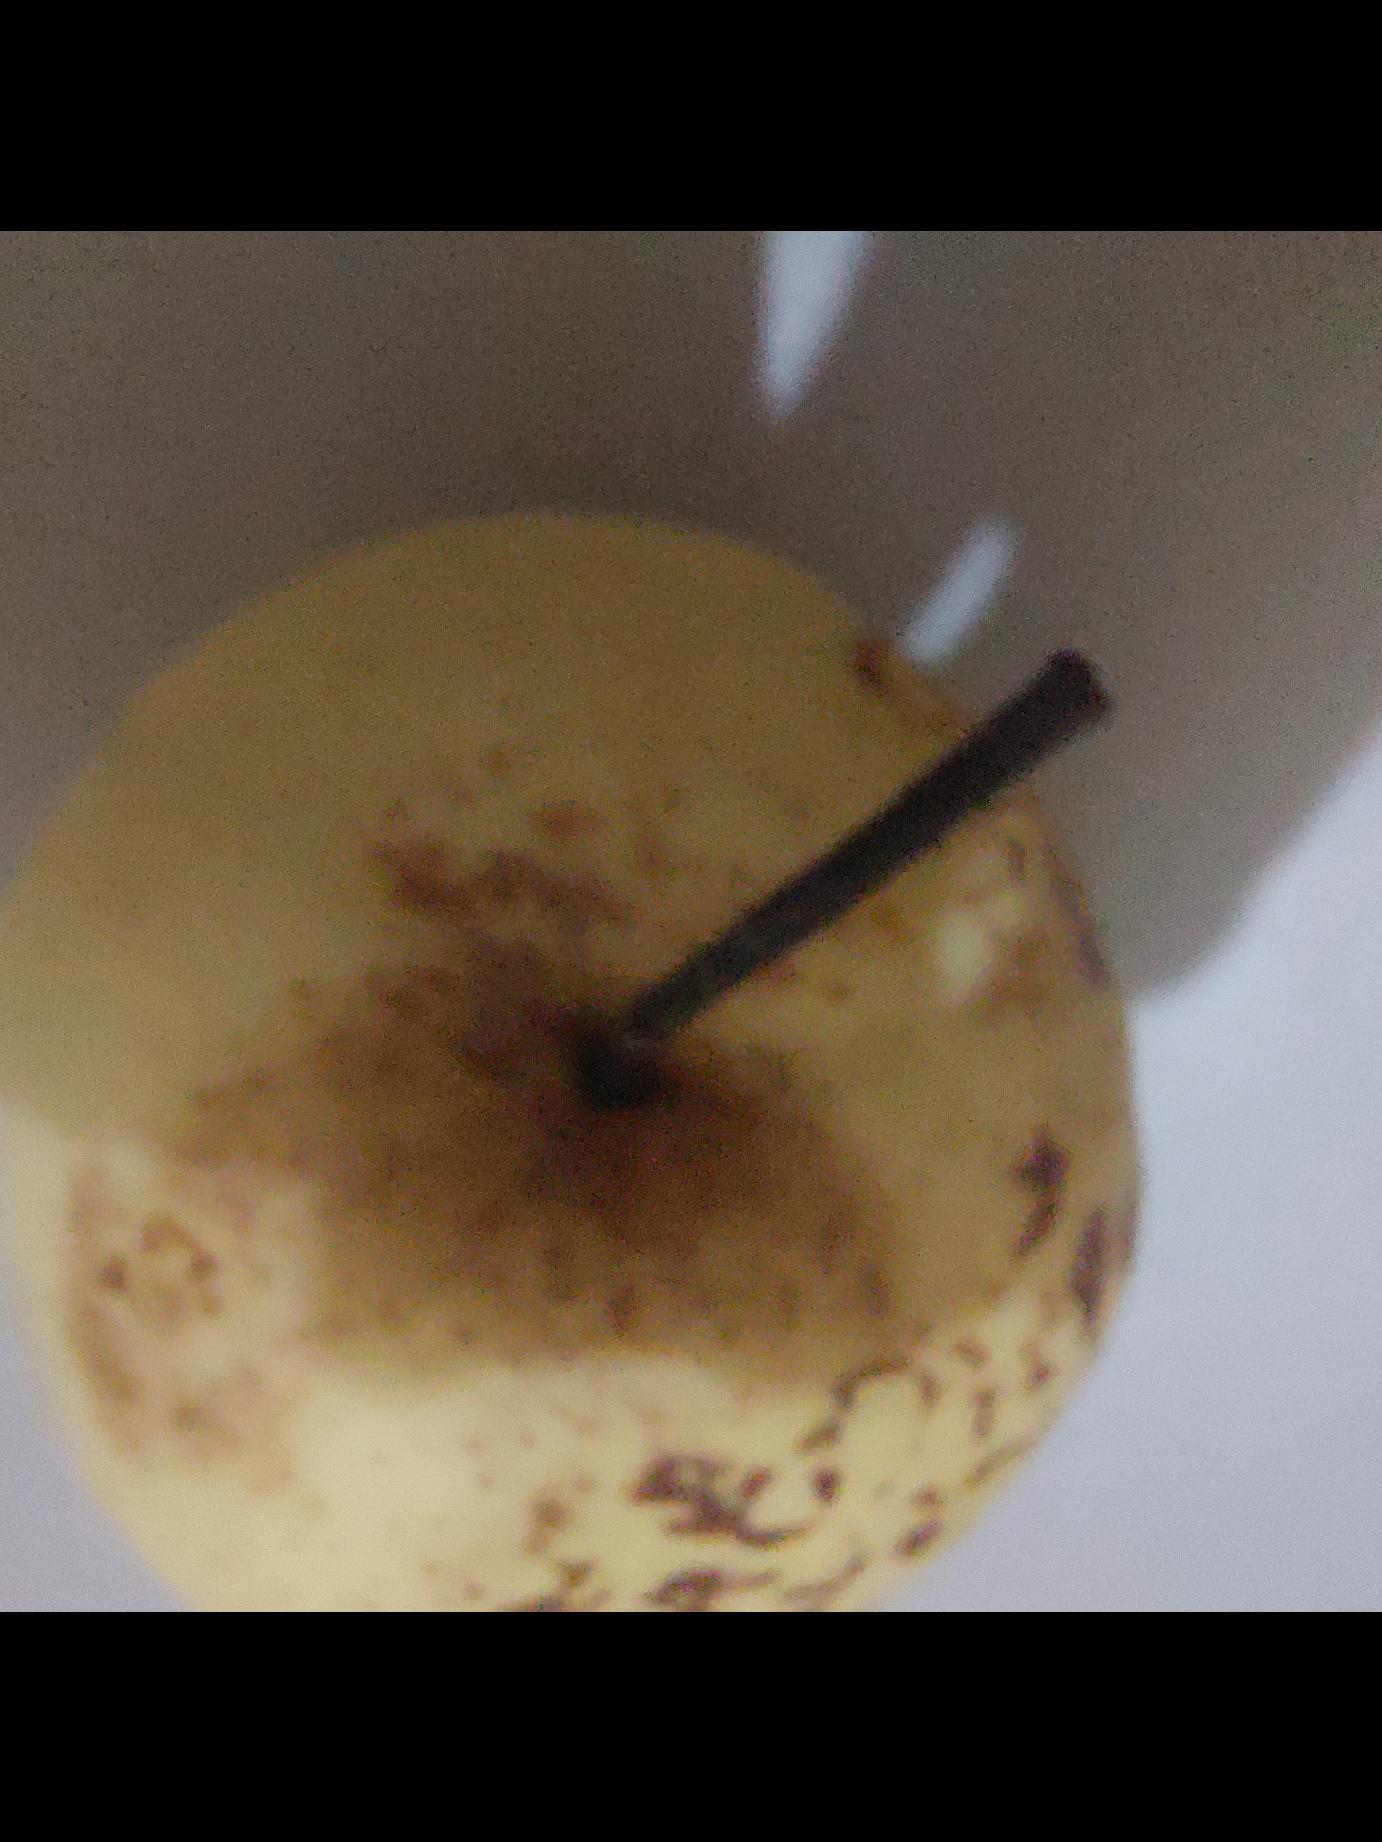Bad Pear: (0, 505, 1172, 1613)
